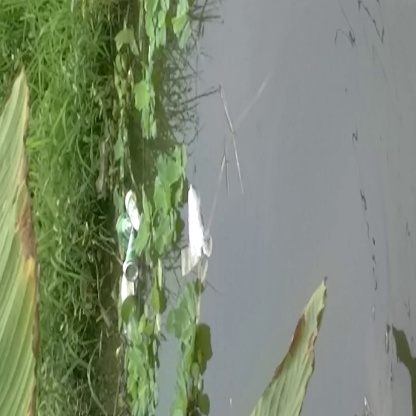plastic-bag: (178, 190, 219, 283)
